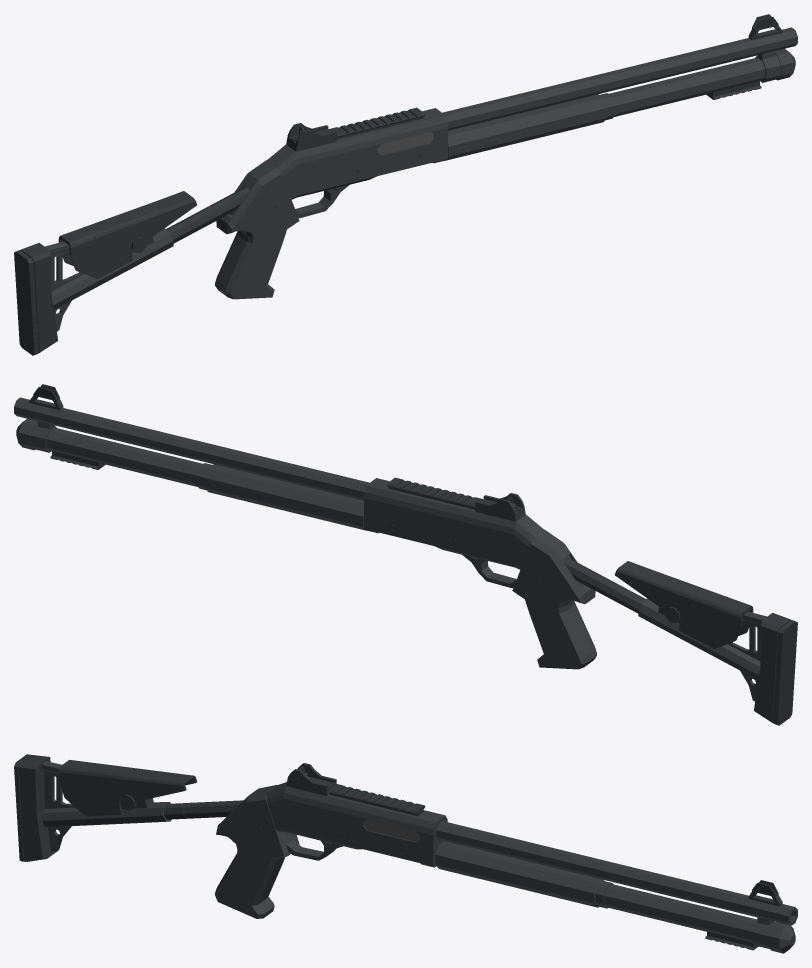
Rendered from Shotgun2_04.fbx.
3 renders of one model, top to bottom at view 1: azimuth 30°, elevation 25°; view 2: azimuth 150°, elevation 25°; view 3: azimuth 330°, elevation 25°, orthographic.
Visible parts, largest first — view 1: Shotgun2_04; view 2: Shotgun2_04; view 3: Shotgun2_04.
Part boxes in pixels (x1,y1,x2,y2): Shotgun2_04: [14, 14, 797, 355]; Shotgun2_04: [14, 384, 797, 725]; Shotgun2_04: [14, 754, 797, 953].
Bounding box in the file's own units: 1.21 × 0.235 × 0.0439.
